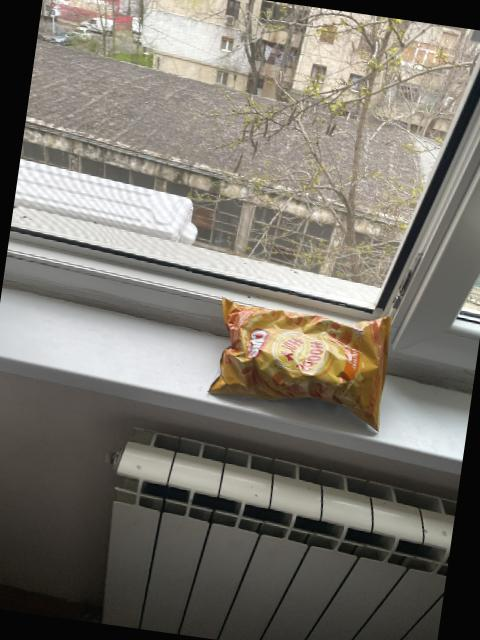Chio Hula Hoops Cheese 70g: (207, 294, 398, 429)
